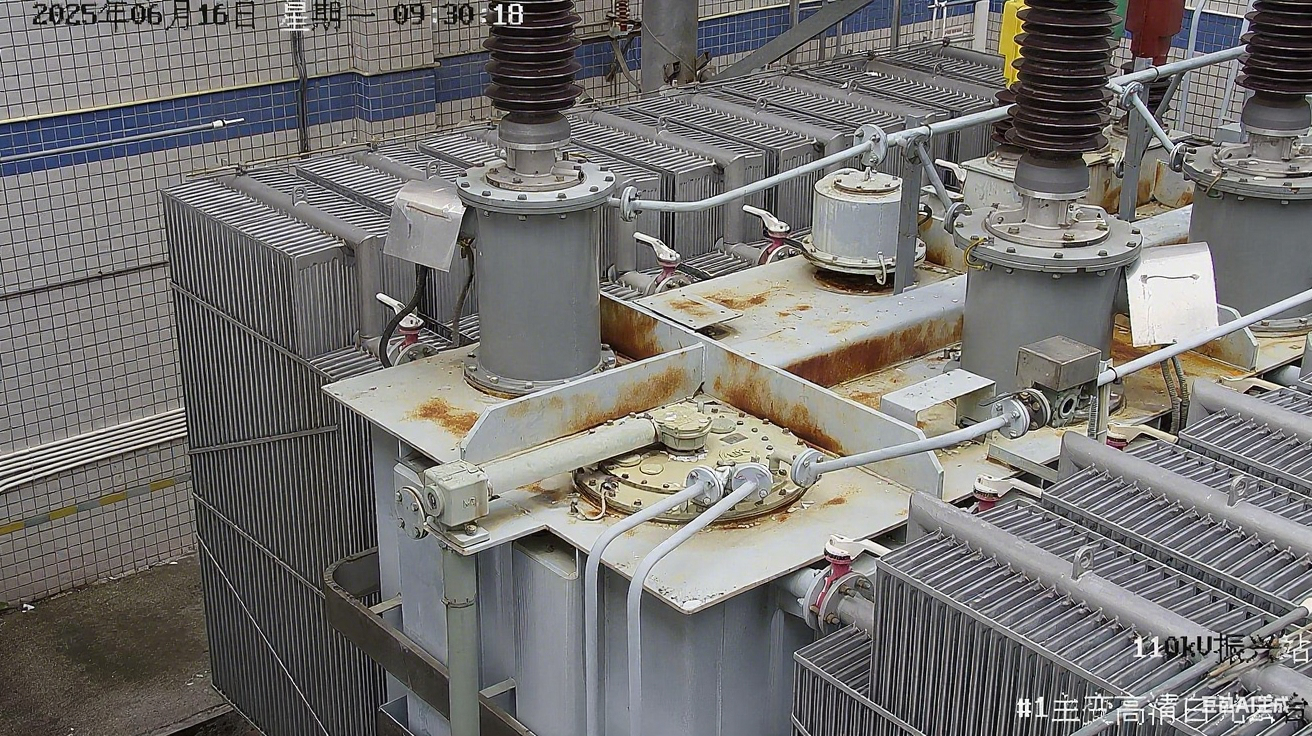MainTR: (155, 0, 1312, 735)
